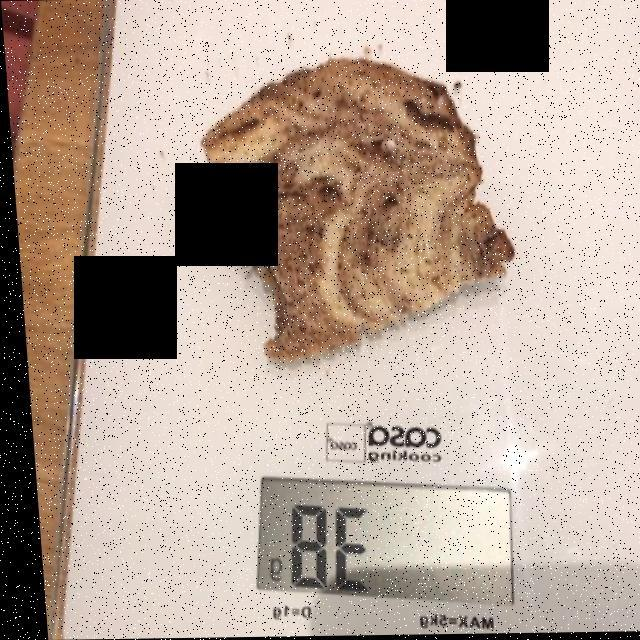cake: (213, 58, 502, 362)
